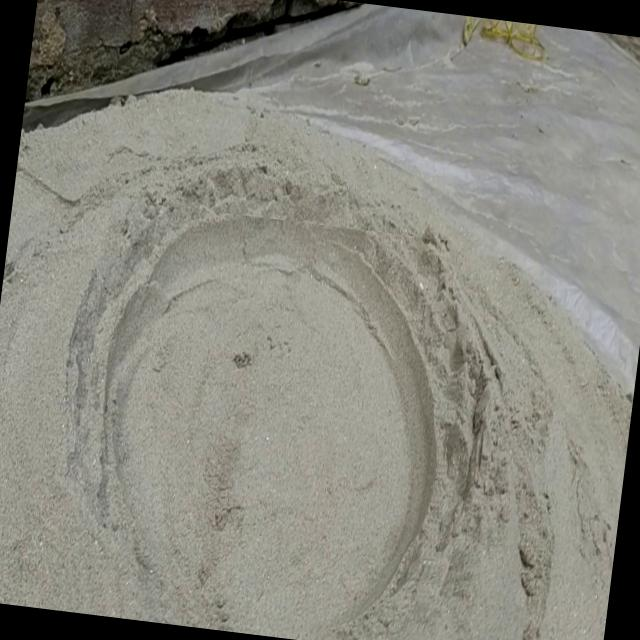C40: (84, 207, 451, 640)
